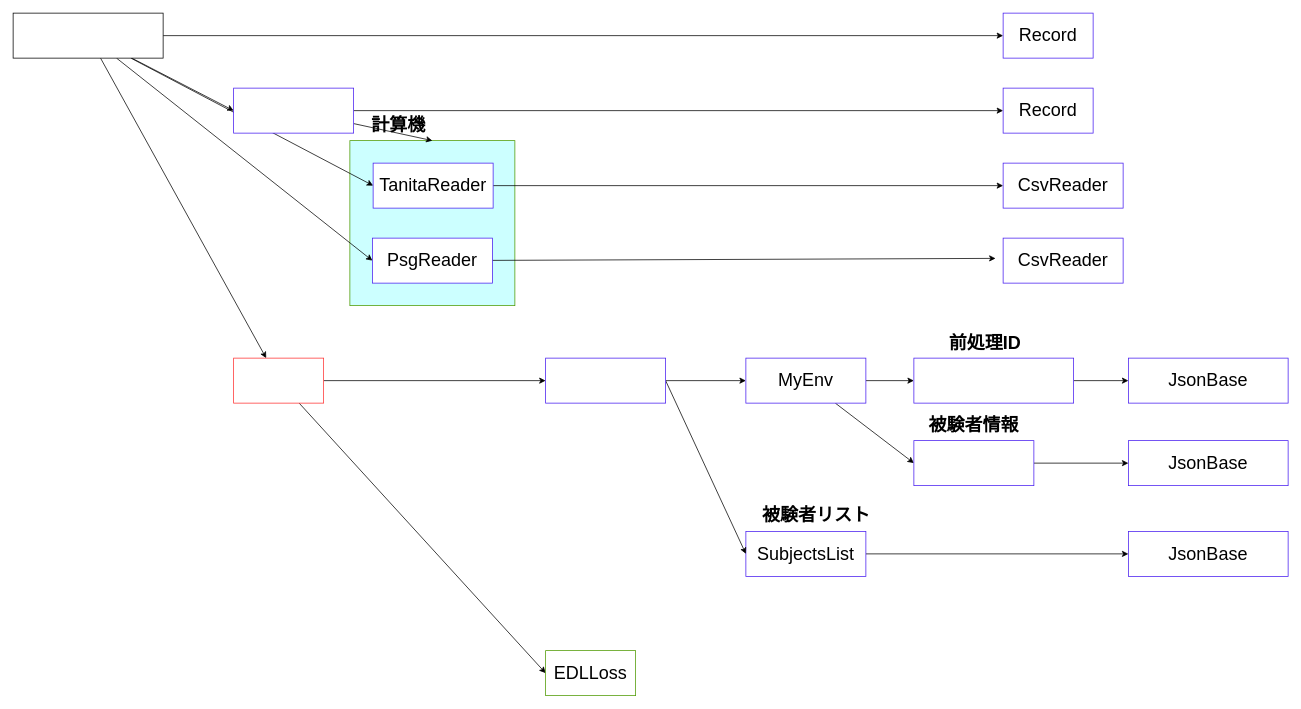
Image size: 1301x709. Some labels were removed from this diagram. Here are the shapes that lost their labels. From the top down, the centre of each, then its label:
At [87,35]: "main".
At [293,110]: "CreateData".
At [278,380]: "Utils".
At [605,380]: "FileReader".
At [993,380]: "PreProcessedId".
At [973,463]: "SubjectsInfo".
